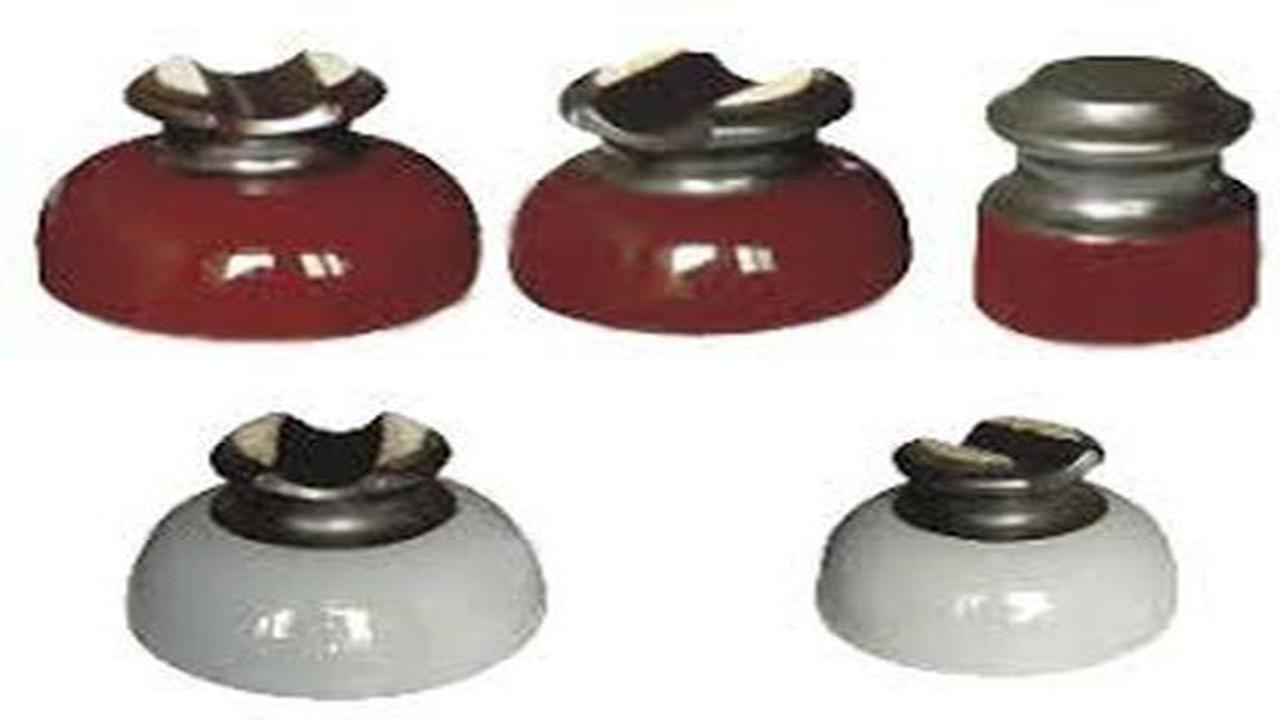insulator_pin: (28, 49, 499, 350)
